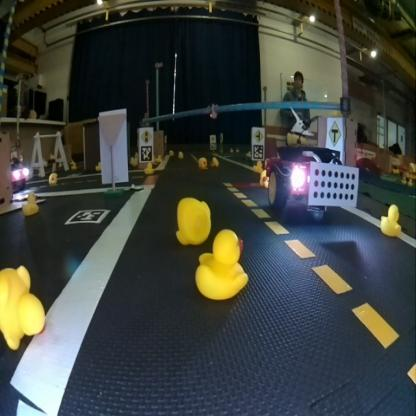Duckie: (194, 230, 247, 297), (0, 267, 44, 345), (176, 197, 210, 241), (381, 206, 398, 236), (22, 192, 36, 214), (258, 169, 268, 186), (198, 157, 206, 167), (48, 172, 56, 182), (254, 160, 262, 170), (146, 162, 152, 172), (210, 156, 216, 165), (178, 150, 182, 158)
Duckiebot: (268, 144, 358, 210), (10, 156, 28, 189)
Intersection sign: (328, 120, 341, 144), (254, 128, 263, 143)
QR code: (65, 210, 109, 223), (140, 146, 152, 161), (252, 144, 263, 158)
Signal sign: (139, 128, 152, 144)
